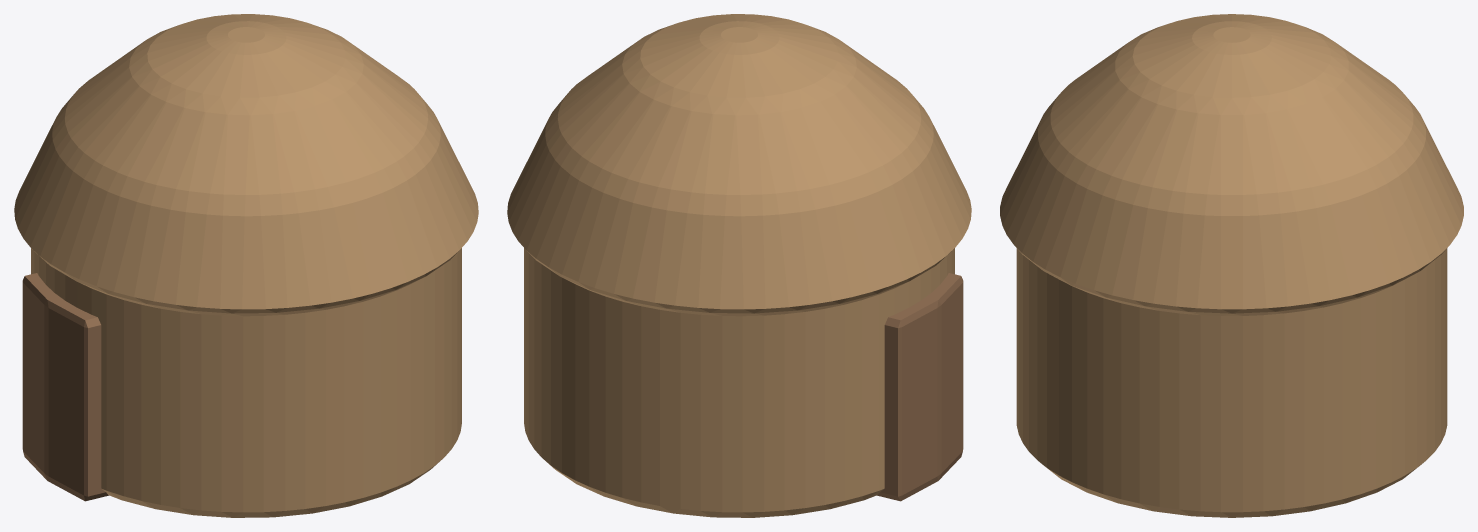
Rendered from tent.fbx.
The picture shows the model from 3 angles, left to right: view 1: azimuth 30°, elevation 25°; view 2: azimuth 150°, elevation 25°; view 3: azimuth 270°, elevation 25°; orthographic projection.
Parts seen in each view (by area): view 1: Cylinder, Cube; view 2: Cylinder, Cube; view 3: Cylinder.
Boxes of the visible parts, x1,y1,x2,y2 form: Cylinder: (14,14,478,517); Cube: (22,273,108,501); Cylinder: (507,14,971,517); Cube: (877,273,963,501); Cylinder: (1000,14,1463,517).
Size of the model in its own units: 464 by 439 by 464.
